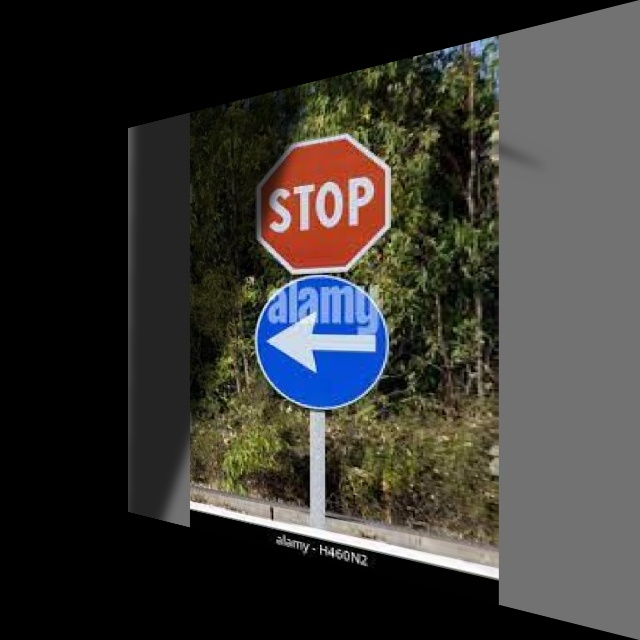Compulsory_Turn_Left: (260, 267, 391, 417)
